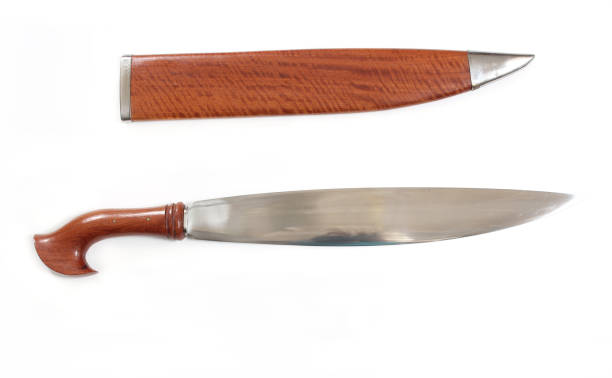knife: (29, 185, 581, 279)
